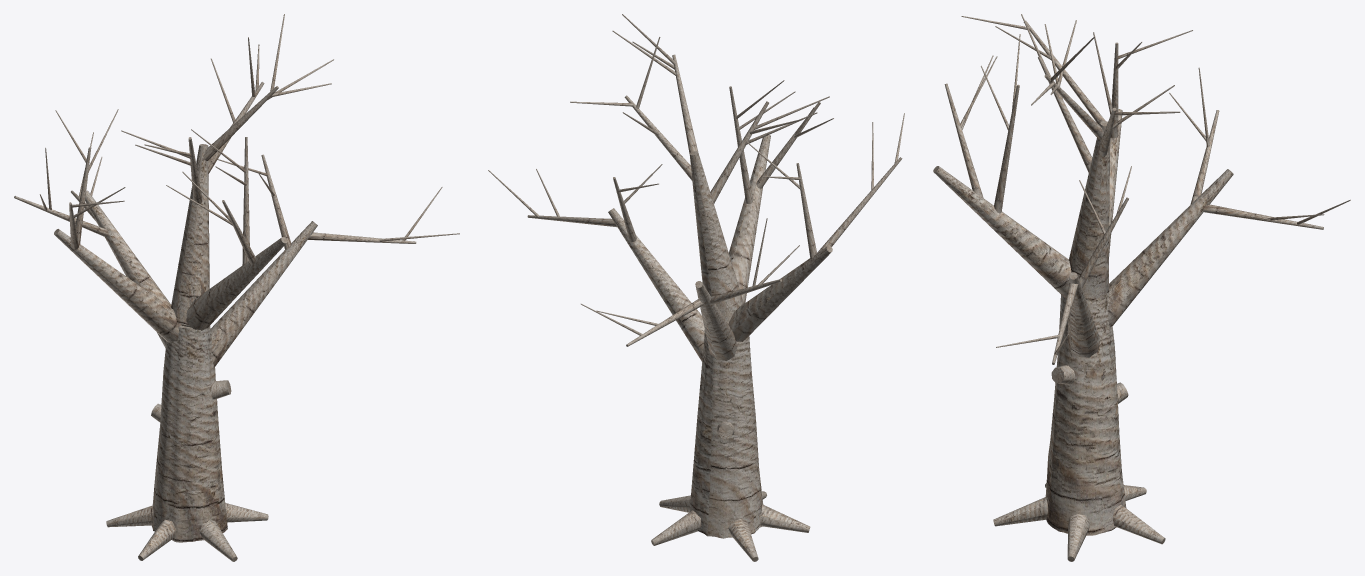
Rendered from dead-tree-v01.glb.
The picture shows the model from 3 angles, left to right: view 1: azimuth 30°, elevation 25°; view 2: azimuth 150°, elevation 25°; view 3: azimuth 270°, elevation 25°; orthographic projection. The views are drawn at different scales.
Parts seen in each view (by area): view 1: dead-tree; view 2: dead-tree; view 3: dead-tree.
Part boxes in pixels (x1,y1,x2,y2): dead-tree: (14, 14, 459, 561); dead-tree: (488, 14, 904, 561); dead-tree: (933, 14, 1350, 561).
Bounding box in the file's own units: 5.98 × 7.16 × 5.01.
1 material, 1 textured.
